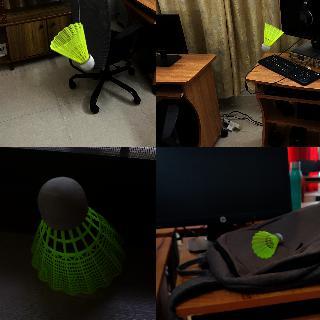shuttlecock: (31, 177, 125, 295), (51, 22, 94, 70), (252, 230, 280, 256), (261, 23, 283, 51)
